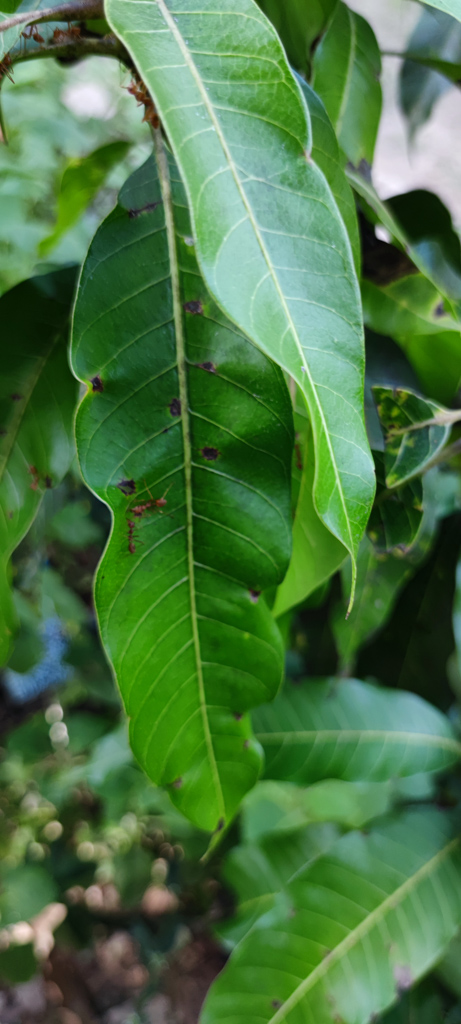frog-eye leafspot: (157, 382, 187, 427), (190, 344, 223, 379), (176, 290, 211, 322), (110, 461, 138, 501), (83, 361, 105, 401), (199, 435, 223, 467)
